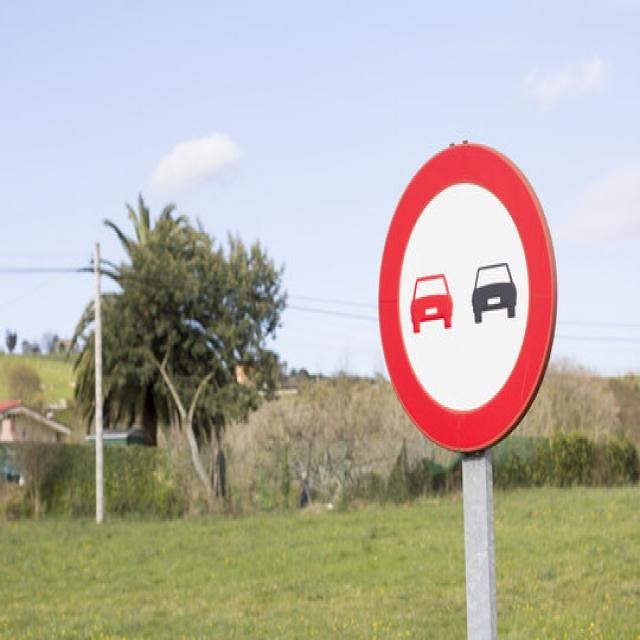no overtaking: (374, 127, 566, 461)
